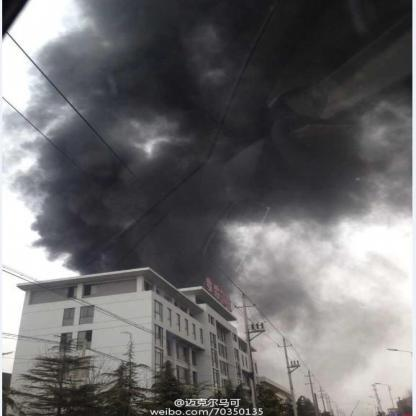smoke: (140, 28, 270, 272), (9, 105, 134, 268), (279, 113, 412, 224), (31, 30, 138, 103)
